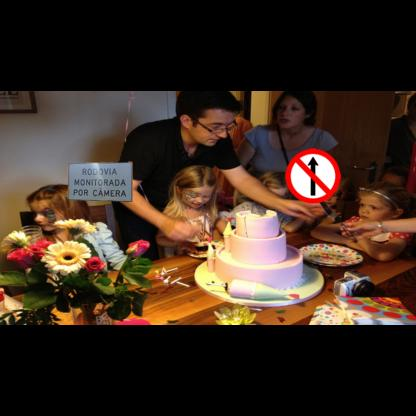I-E: (68, 161, 133, 202)
R-3: (285, 148, 341, 203)
